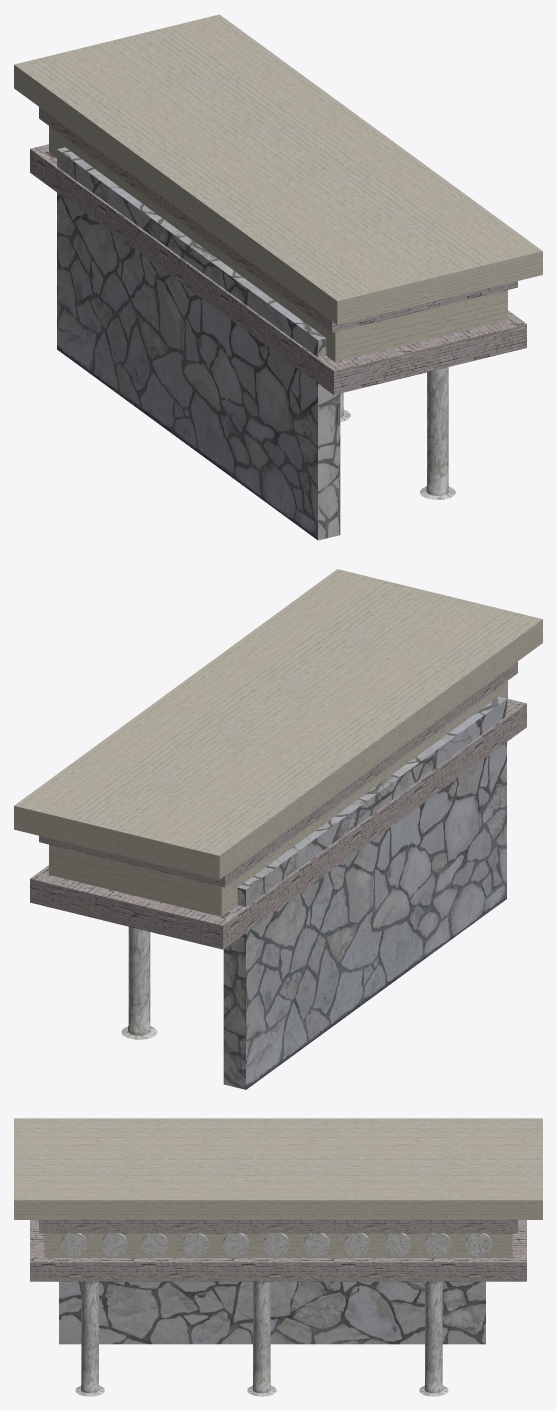
File: Minaon.FBX
3 views of the same model, one above another, from view 1: azimuth 30°, elevation 25°; view 2: azimuth 150°, elevation 25°; view 3: azimuth 270°, elevation 25° (orthographic). The views are drawn at different scales.
Visible parts, largest first — view 1: Box005, Box002, Box003, Box001, Box004, Column1; view 2: Box005, Box002, Box003, Box001, Box004, Column003; view 3: Box005, Box002, Box003, Box004, Box001, Column1, Column002, Column003, Circle008, Circle006, Circle010, Circle004 (+7 smaller).
Part boxes in pixels (box(x1,y1,x2,y2)): Box005: box(14, 14, 542, 324); Box002: box(57, 147, 340, 540); Box003: box(30, 144, 526, 394); Box001: box(49, 126, 507, 362); Box004: box(39, 107, 517, 332); Column1: box(420, 367, 455, 499); Box005: box(14, 569, 542, 879); Box002: box(223, 696, 506, 1089); Box003: box(30, 699, 526, 949); Box001: box(49, 681, 507, 916); Box004: box(39, 661, 517, 887); Column003: box(121, 927, 157, 1039); Box005: box(14, 1118, 542, 1219); Box002: box(59, 1281, 485, 1344); Box003: box(30, 1220, 526, 1281); Box004: box(39, 1220, 517, 1233); Box001: box(44, 1233, 512, 1257); Column1: box(75, 1281, 104, 1396); Column002: box(247, 1281, 276, 1396); Column003: box(419, 1281, 448, 1396); Circle008: box(182, 1233, 208, 1256); Circle006: box(263, 1233, 289, 1256); Circle010: box(101, 1233, 127, 1256); Circle004: box(344, 1233, 370, 1256).
Bounding box in the file's own units: 490 × 595 × 1335.
Materials: 4 (4 with a texture image).
